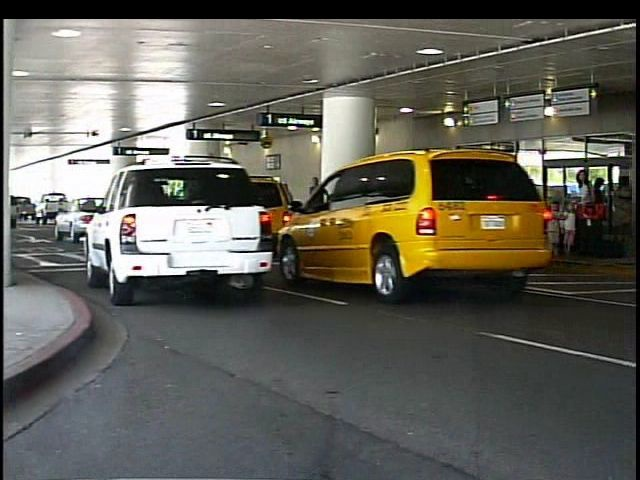person: (495, 170, 525, 260), (571, 168, 599, 258), (591, 175, 611, 245), (564, 200, 581, 253)
